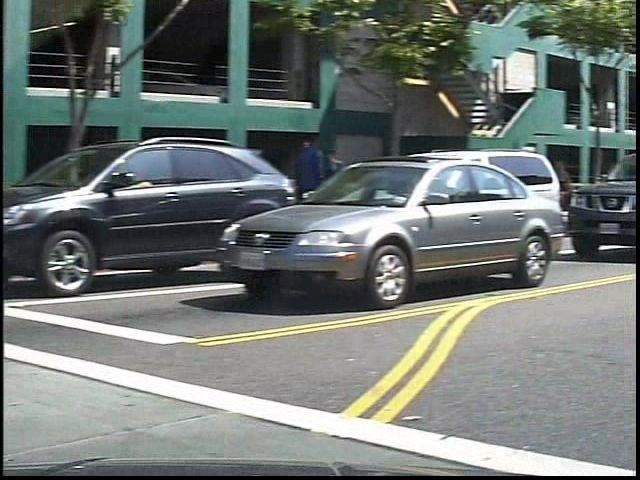person: (305, 129, 351, 241)
